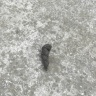Dog: (41, 43, 51, 71)
